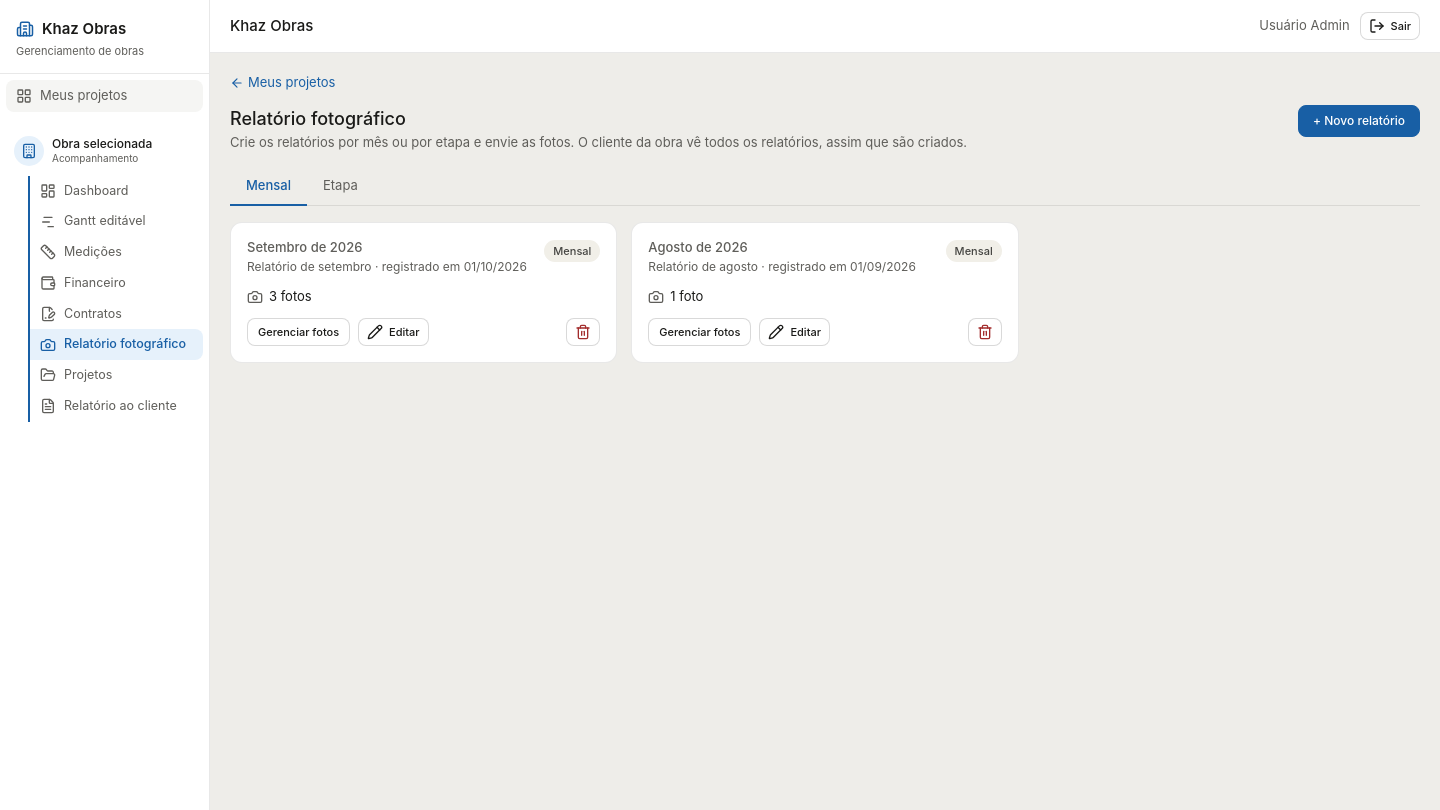
Scenario: Relatório fotográfico (admin) - criar › abre com tipo Mensal, competência no mês de hoje e sem etapa
What coordinates should you click on to do the following:
click the button "+ Novo relatório"
I would click on:
 (1359, 120)
Its box is left=1298, top=104, right=1420, bottom=136.
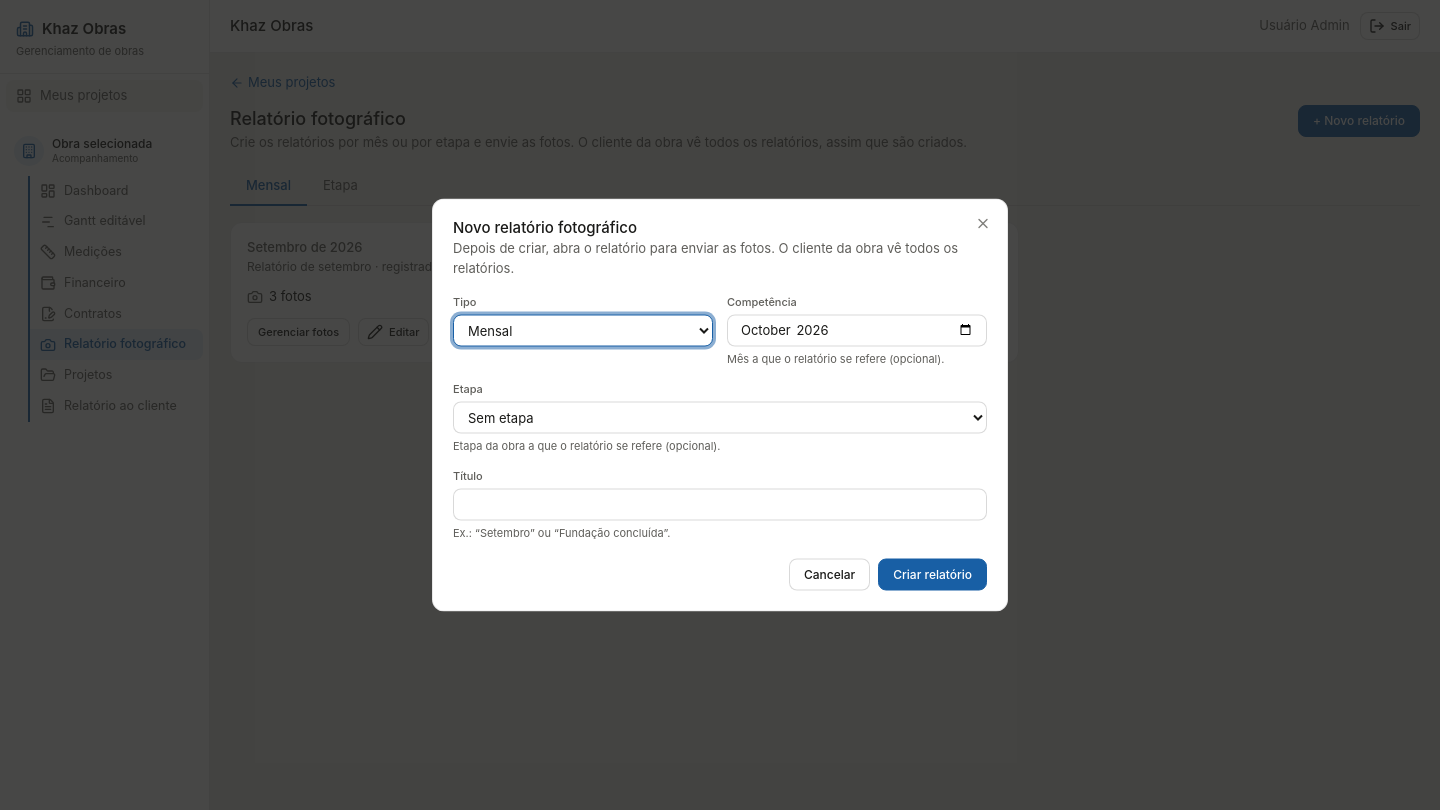
Expected: the dropdown labelled "Tipo" shows "Mensal", left=453, top=314, right=713, bottom=346
Expected: the field labelled "Competência" holds "2026-10", left=727, top=314, right=987, bottom=346
Expected: the dropdown labelled "Etapa" shows "Sem etapa", left=453, top=401, right=987, bottom=433
